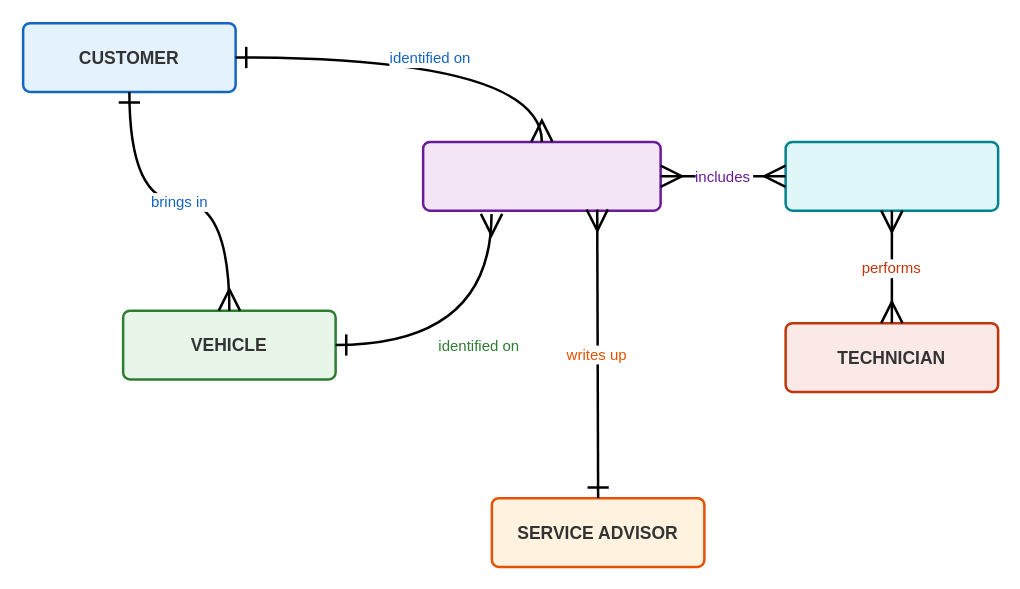
Image size: 1020x589. Some labels were removed from this diagram. Each missing label, with the centre of its shape:
REPAIR ORDER: [541,175]
SERVICE TYPE: [891,175]
